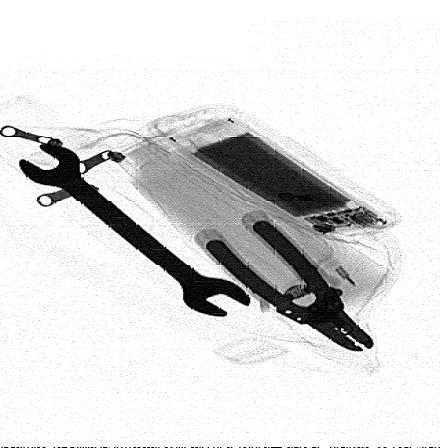Pliers: (204, 220, 374, 351)
Powerbank: (171, 116, 397, 236)
Wrench: (15, 144, 253, 317)
